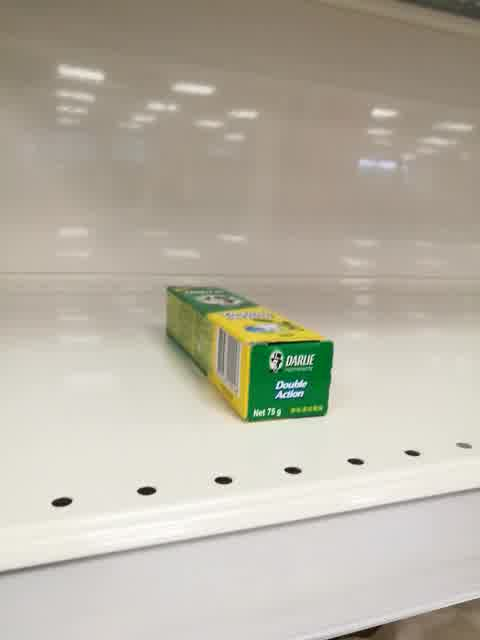toothpaste: (166, 283, 335, 423)
